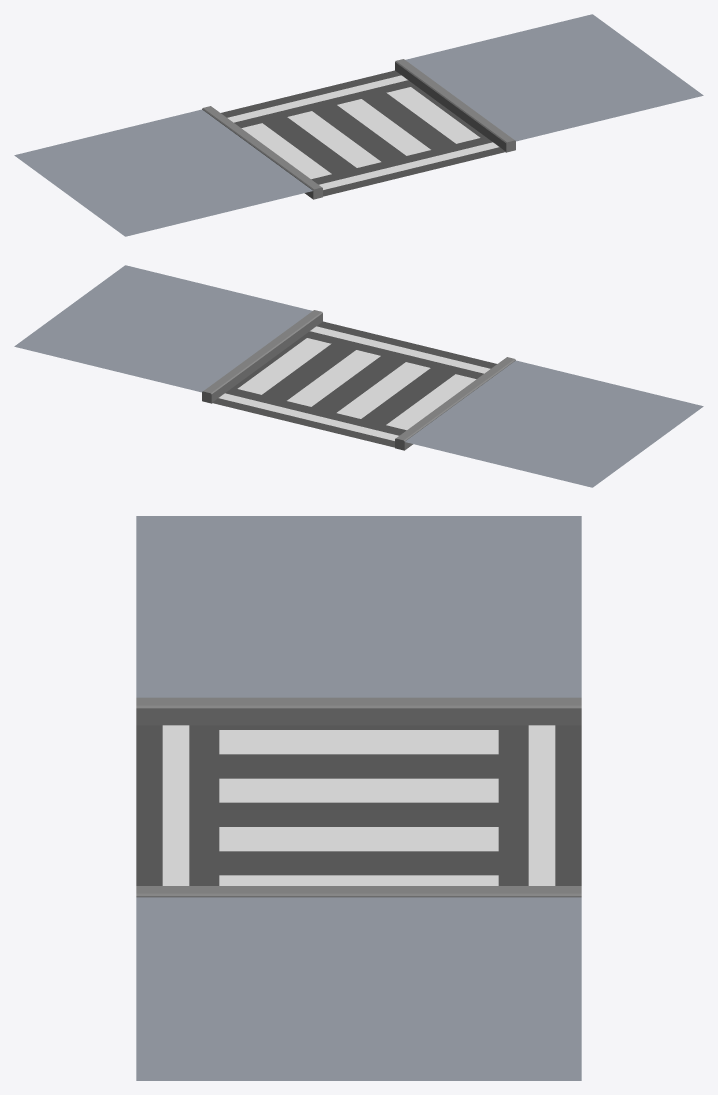
Rendered from Road_11.fbx.
3 views of the same model, one above another, from view 1: azimuth 30°, elevation 25°; view 2: azimuth 150°, elevation 25°; view 3: azimuth 270°, elevation 25° (orthographic). The views are drawn at different scales.
Visible parts, largest first — view 1: Road_11; view 2: Road_11; view 3: Road_11.
Boxes of the visible parts, x1,y1,x2,y2 form: Road_11: (14,14,703,236); Road_11: (14,265,703,487); Road_11: (136,516,581,1080).
Bounding box in the file's own units: 900 × 15 × 300.
